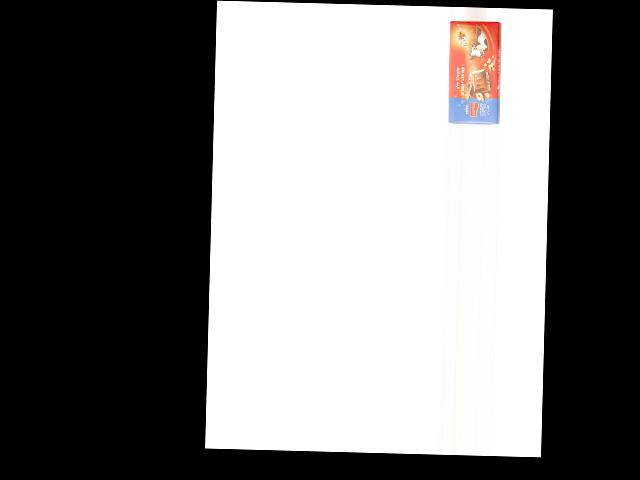chocolate: (448, 19, 501, 124)
